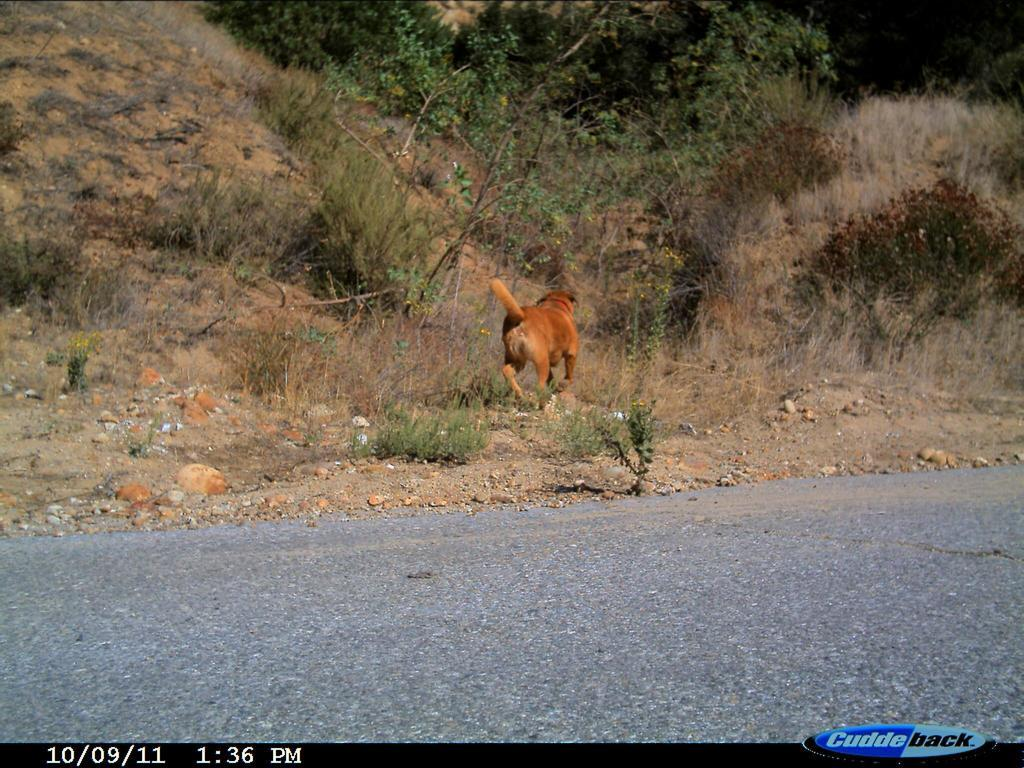dog: (479, 269, 593, 422)
